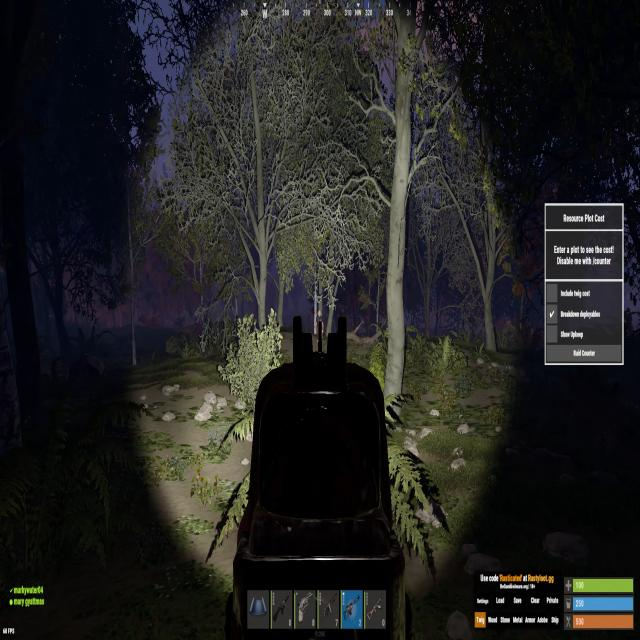Player: (315, 309, 324, 343)
